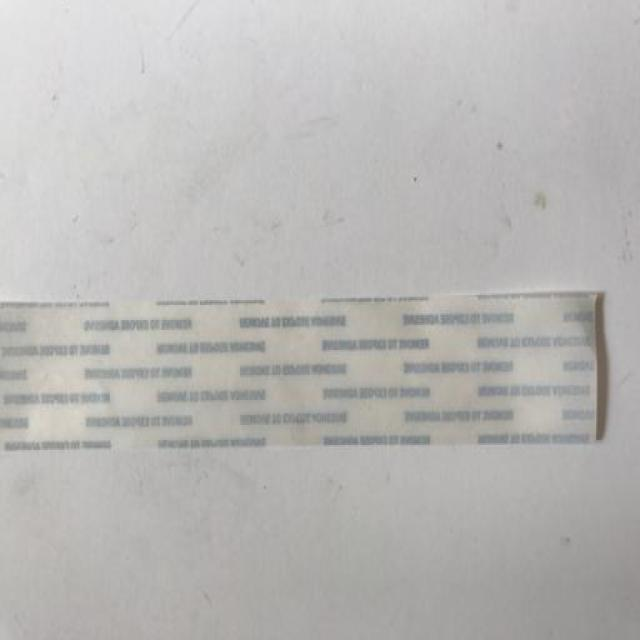paper: (0, 288, 604, 452)
